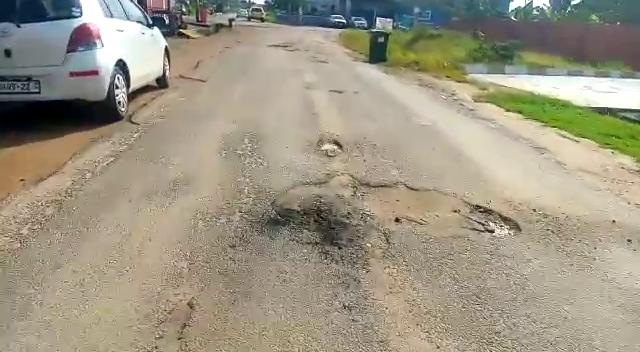pothole: (266, 173, 525, 247), (316, 139, 346, 157)
